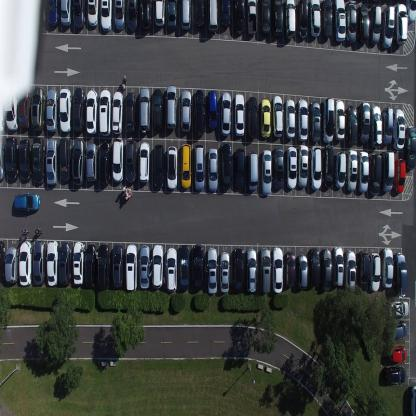car: (31, 137, 45, 184), (4, 86, 18, 132), (99, 88, 112, 137), (72, 86, 85, 135), (71, 139, 84, 187), (59, 136, 72, 184), (45, 138, 58, 186), (97, 243, 110, 291), (4, 137, 18, 181), (381, 5, 395, 49), (124, 138, 137, 184), (19, 240, 32, 286), (33, 240, 46, 286), (58, 241, 71, 287), (309, 145, 322, 191), (125, 243, 137, 292), (98, 140, 111, 185), (59, 88, 72, 133), (31, 86, 44, 131), (368, 152, 381, 197), (333, 0, 346, 45), (192, 243, 204, 291), (193, 88, 205, 136), (356, 250, 370, 291), (393, 252, 407, 293), (45, 89, 58, 133), (73, 242, 86, 286), (344, 248, 357, 292), (358, 100, 371, 144), (193, 144, 205, 191), (259, 247, 271, 294), (381, 150, 394, 193), (220, 91, 232, 137), (180, 143, 192, 189), (272, 145, 284, 191), (112, 137, 124, 183), (86, 89, 98, 135), (46, 240, 58, 286), (84, 243, 96, 289), (112, 244, 124, 290), (152, 244, 164, 290), (322, 97, 334, 143), (85, 142, 98, 184), (381, 246, 394, 288), (270, 0, 284, 39), (234, 146, 246, 191), (166, 145, 178, 190), (286, 145, 298, 190), (404, 125, 416, 170), (18, 139, 31, 180), (357, 4, 370, 45), (220, 142, 231, 190), (233, 247, 244, 295), (246, 247, 257, 295), (139, 86, 150, 134), (322, 145, 334, 189), (5, 245, 18, 285), (296, 0, 309, 40), (272, 247, 283, 294), (180, 89, 192, 132), (332, 245, 344, 288), (395, 3, 407, 46), (13, 192, 40, 211), (166, 84, 177, 130), (261, 149, 272, 195), (357, 151, 369, 193), (207, 147, 218, 192), (166, 247, 177, 292), (234, 92, 245, 137), (152, 88, 163, 133), (139, 245, 150, 290), (371, 104, 382, 149), (346, 0, 357, 45), (207, 89, 219, 130), (259, 98, 271, 139), (346, 105, 358, 146), (284, 0, 296, 41), (272, 94, 283, 138), (125, 91, 136, 135), (112, 90, 123, 134), (321, 247, 332, 291), (384, 364, 406, 386), (258, 0, 271, 37), (207, 246, 217, 294), (154, 142, 164, 190), (334, 100, 346, 140), (309, 0, 321, 40), (369, 5, 381, 45), (219, 250, 230, 293), (297, 98, 308, 141), (139, 141, 150, 184), (18, 87, 29, 130), (346, 149, 357, 192), (179, 244, 189, 291), (369, 252, 381, 291), (284, 98, 295, 140), (394, 108, 405, 150), (385, 320, 408, 340), (298, 143, 308, 189), (309, 247, 320, 288), (309, 101, 320, 142), (247, 95, 257, 140), (296, 253, 308, 290), (382, 106, 393, 146), (321, 0, 332, 40), (246, 0, 258, 36), (335, 151, 346, 189), (233, 0, 245, 34), (46, 0, 60, 29), (72, 0, 86, 29), (248, 151, 258, 191), (100, 0, 112, 33), (126, 0, 138, 33), (206, 0, 218, 33), (139, 0, 152, 30), (394, 158, 405, 193), (388, 300, 410, 317), (388, 344, 407, 363), (285, 252, 295, 288), (180, 0, 192, 30), (114, 0, 125, 32), (193, 0, 205, 29), (153, 0, 165, 28), (166, 0, 177, 30), (60, 0, 72, 27), (87, 0, 98, 27), (220, 0, 230, 28), (0, 239, 5, 282), (406, 0, 415, 23), (410, 383, 416, 415), (0, 89, 4, 133), (0, 139, 4, 182)
